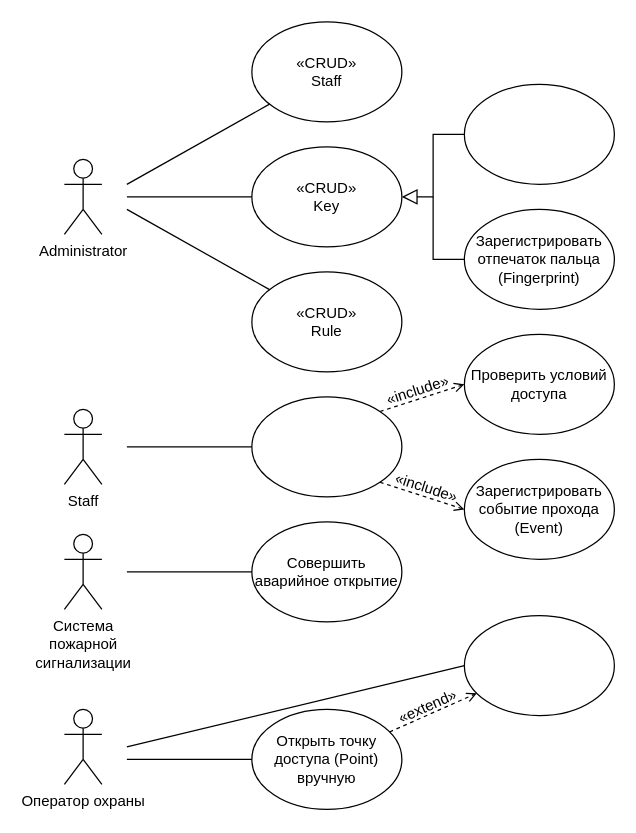
The diagram is 636 pixels wide and 833 high, and some of its shapes have lost their labels. The centre of each missing label's shape, as x and y in pixels:
Выпустить карту (Card): (538,133)
Запросить доступ: (326,446)
Мониторить журнал событий (Journal): (538,665)
